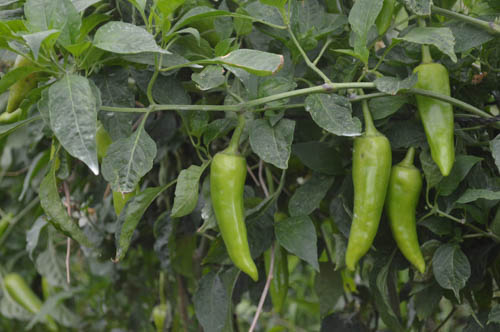ChiliPepper: (211, 153, 263, 282), (346, 136, 390, 274), (413, 65, 460, 175), (389, 165, 425, 271)
